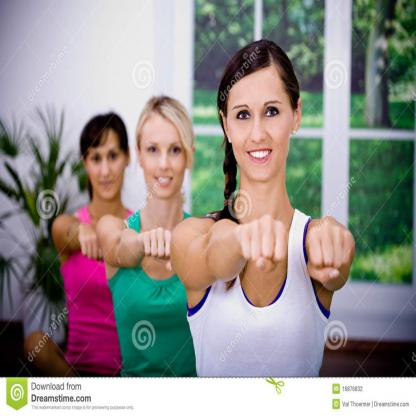face: (228, 70, 294, 185), (141, 115, 187, 201), (85, 133, 128, 203)
